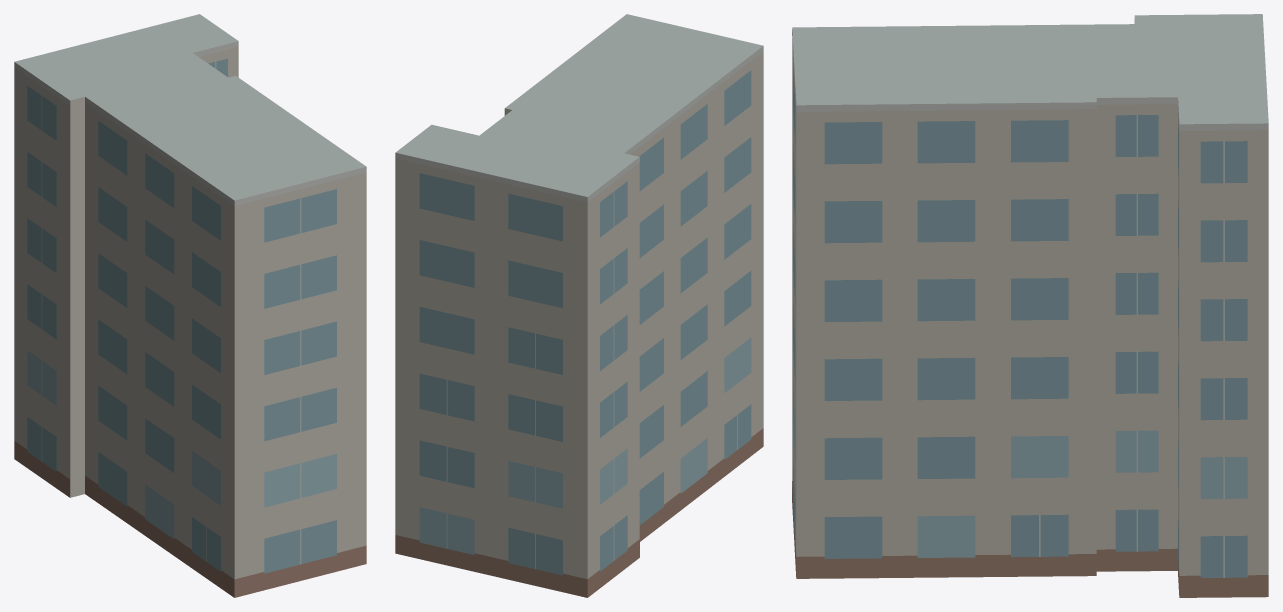
File: survey-upis-32960476.glb
3 renders of one model, left to right at view 1: azimuth 30°, elevation 25°; view 2: azimuth 150°, elevation 25°; view 3: azimuth 270°, elevation 25°, orthographic. The views are drawn at different scales.
Visible parts, largest first — view 1: survey-upis-32960476.tmp; view 2: survey-upis-32960476.tmp; view 3: survey-upis-32960476.tmp.
Part boxes in pixels (x1,y1,x2,y2): survey-upis-32960476.tmp: (14,14,366,597); survey-upis-32960476.tmp: (395,14,763,597); survey-upis-32960476.tmp: (792,14,1268,597).
Size of the model in its own units: 8.75 by 17.5 by 15.97.
